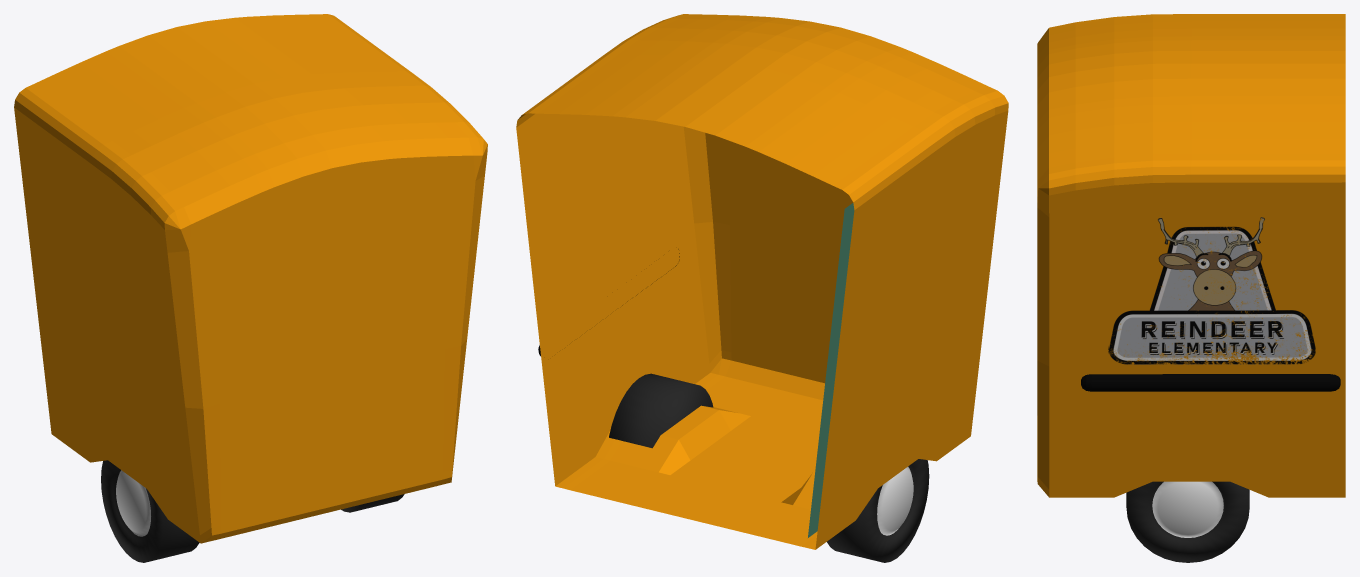
Rendered from back.glb.
The picture shows the model from 3 angles, left to right: view 1: azimuth 30°, elevation 25°; view 2: azimuth 150°, elevation 25°; view 3: azimuth 270°, elevation 25°; orthographic projection. The views are drawn at different scales.
Parts seen in each view (by area): view 1: Back, Tire BackLeft; view 2: Back, Tire BackLeft, Tire BackRight, Backdrop; view 3: Back, Decal, Tire BackRight, Stripe Back.
Boxes of the visible parts, x1,y1,x2,y2 form: Back: [14, 14, 487, 543]; Tire BackLeft: [101, 460, 199, 562]; Back: [516, 14, 1008, 549]; Tire BackLeft: [827, 459, 929, 562]; Tire BackRight: [609, 373, 713, 448]; Backdrop: [808, 203, 854, 537]; Back: [1037, 14, 1345, 497]; Decal: [1108, 217, 1315, 364]; Tire BackRight: [1126, 481, 1249, 562]; Stripe Back: [1081, 374, 1340, 391].
Size of the model in its own units: 3.02 by 3.93 by 2.5.
Materials: 6 (1 with a texture image).
